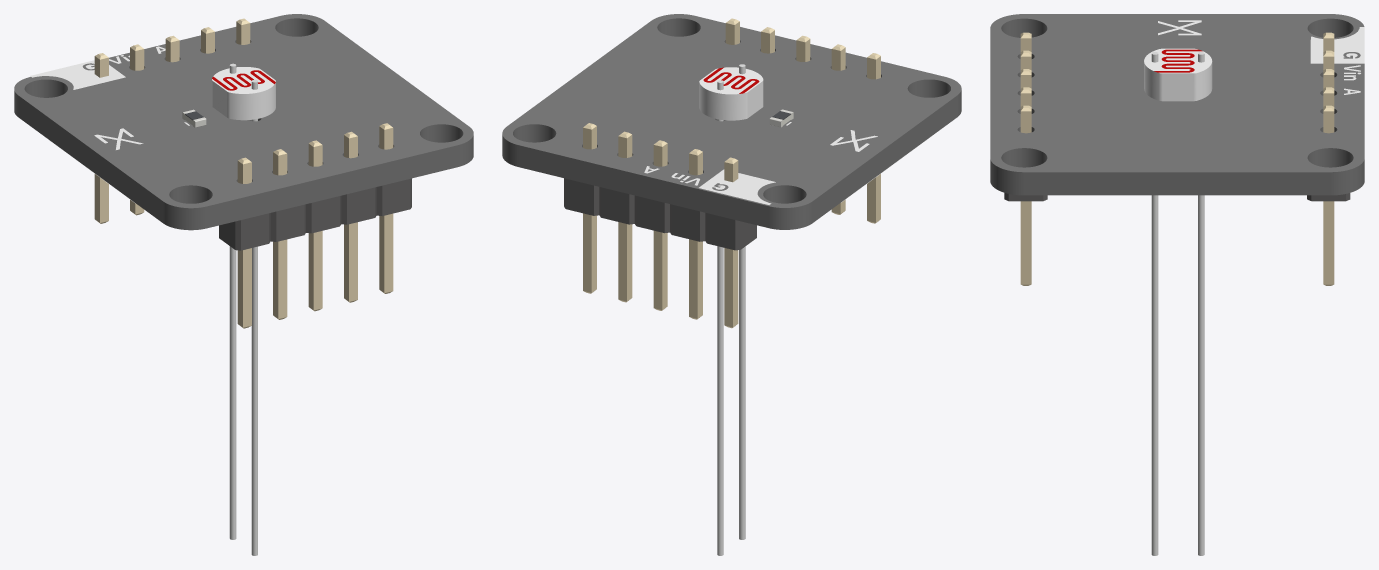
3 renders of one model, left to right at view 1: azimuth 30°, elevation 25°; view 2: azimuth 150°, elevation 25°; view 3: azimuth 270°, elevation 25°, orthographic. The views are drawn at different scales.
Visible parts, largest first — view 1: Node10, Node1, Node9, Node6, Node7, Node2; view 2: Node10, Node1, Node9, Node6, Node7, Node2; view 3: Node10, Node6, Node1, Node7, Node2, Node9, Node8.
Part boxes in pixels (x1,y1,x2,y2): Node10: (14, 14, 473, 230); Node1: (94, 18, 393, 328); Node9: (219, 178, 411, 250); Node6: (229, 63, 257, 555); Node7: (212, 67, 275, 120); Node2: (30, 46, 189, 203); Node10: (502, 14, 961, 229); Node1: (583, 18, 880, 328); Node9: (564, 178, 756, 250); Node6: (717, 64, 745, 555); Node7: (699, 67, 763, 120); Node2: (644, 122, 927, 204); Node10: (990, 14, 1364, 195); Node6: (1151, 52, 1204, 555); Node1: (1020, 32, 1334, 285); Node7: (1144, 48, 1212, 101); Node2: (1158, 20, 1364, 94); Node9: (1004, 193, 1350, 201); Node8: (1154, 49, 1202, 72).
Size of the model in its own units: 22 by 32.5 by 22.
